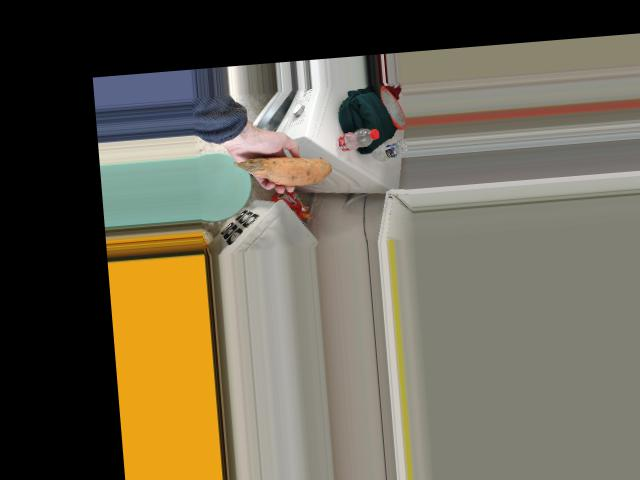sweet_potato: (244, 150, 323, 190)
